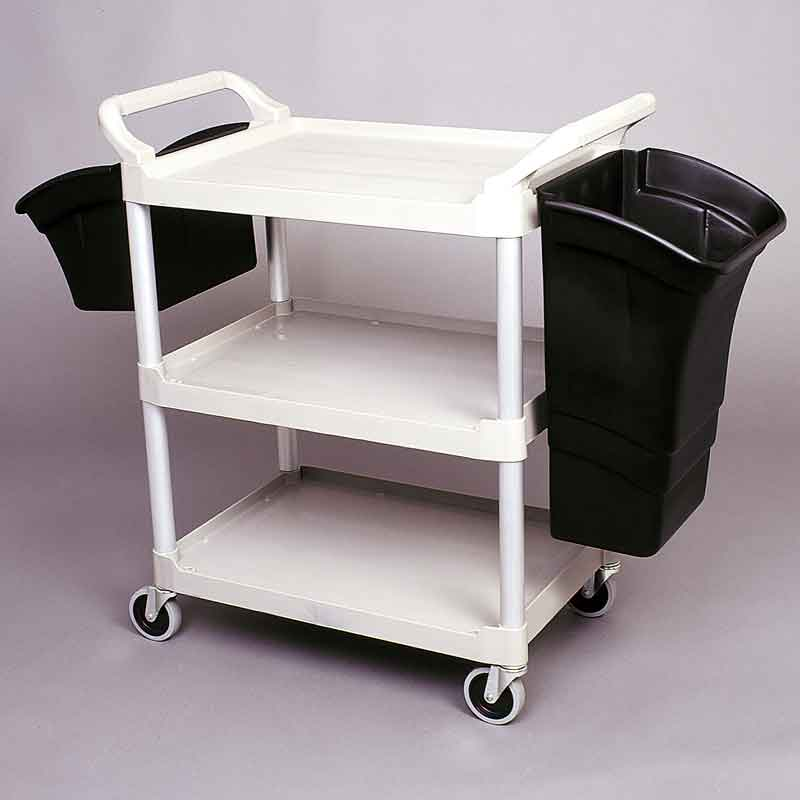Carts: (95, 63, 691, 728)
